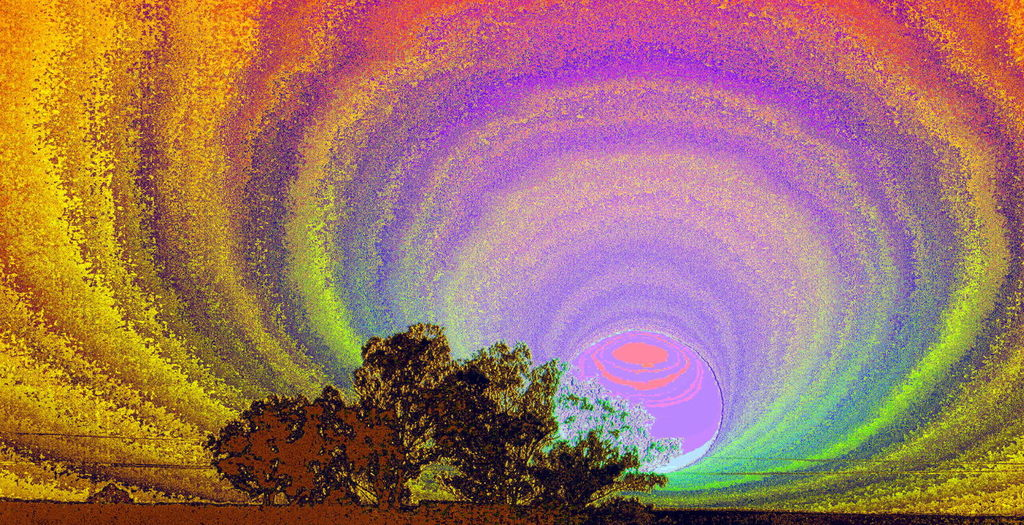Tree: (200, 320, 685, 525)
